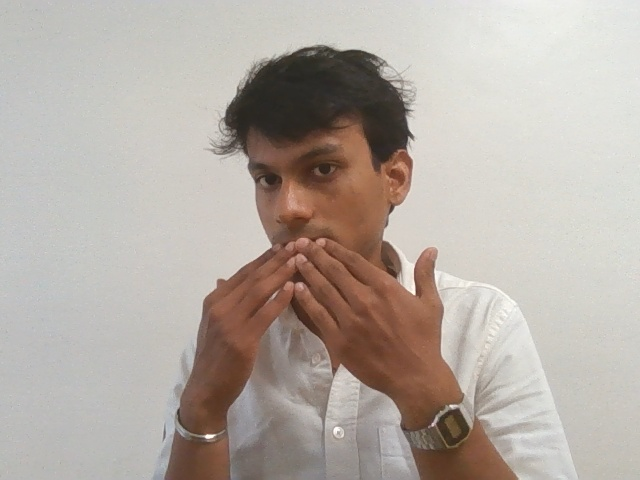ThankYou: (193, 235, 453, 443)
